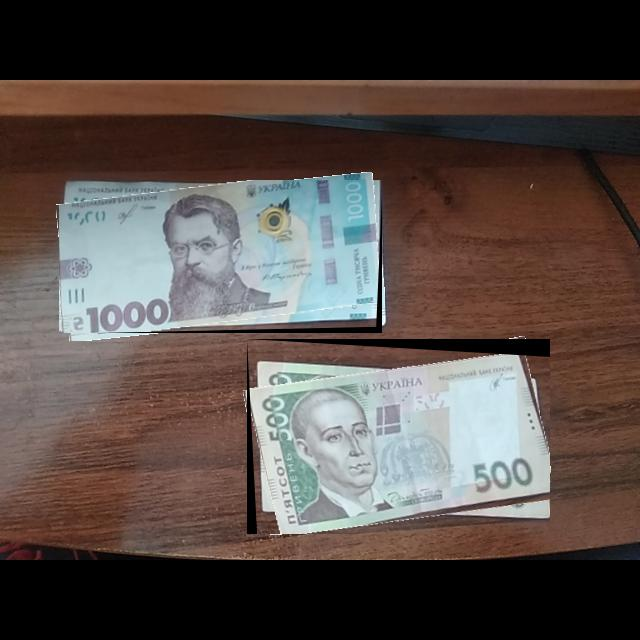1000uah: (59, 180, 383, 334)
500uah: (249, 352, 551, 535)
